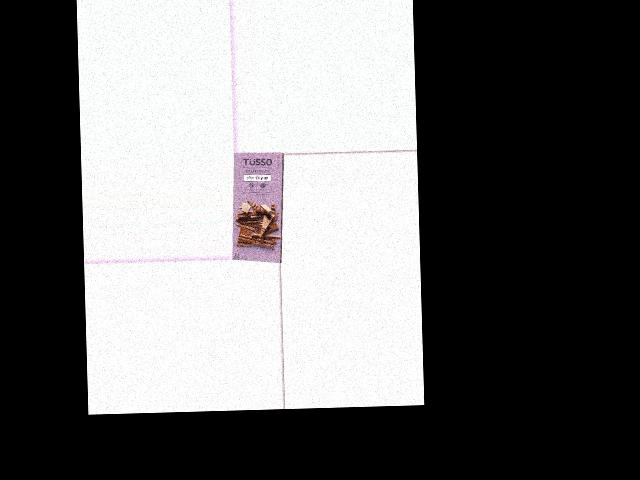chocolate: (232, 153, 283, 264)
